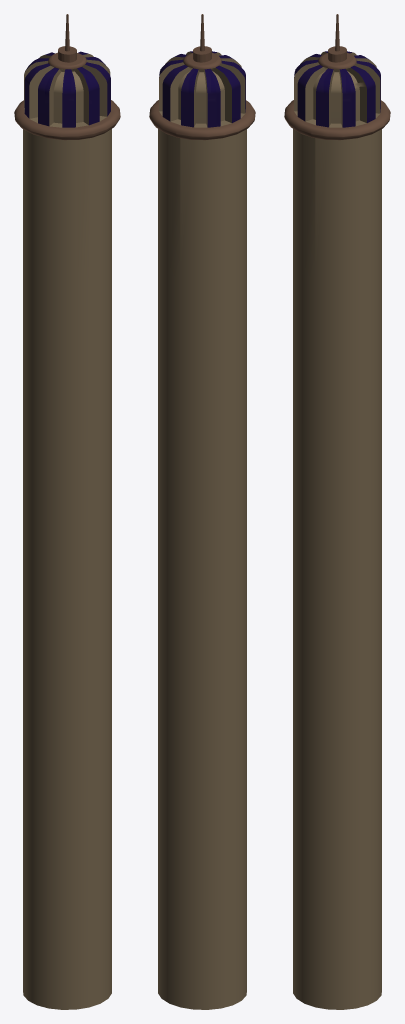
File: ColoredPole.fbx
3 views of the same model, side by side, from view 1: azimuth 30°, elevation 25°; view 2: azimuth 150°, elevation 25°; view 3: azimuth 330°, elevation 25° (orthographic).
Visible parts, largest first — view 1: ShortCylinder; view 2: ShortCylinder; view 3: ShortCylinder.
Boxes of the visible parts, bbox=[...] form: ShortCylinder: bbox=[14, 14, 120, 1009]; ShortCylinder: bbox=[149, 14, 255, 1009]; ShortCylinder: bbox=[284, 14, 390, 1009].
Bounding box in the file's own units: 11.09 × 111 × 10.82.
